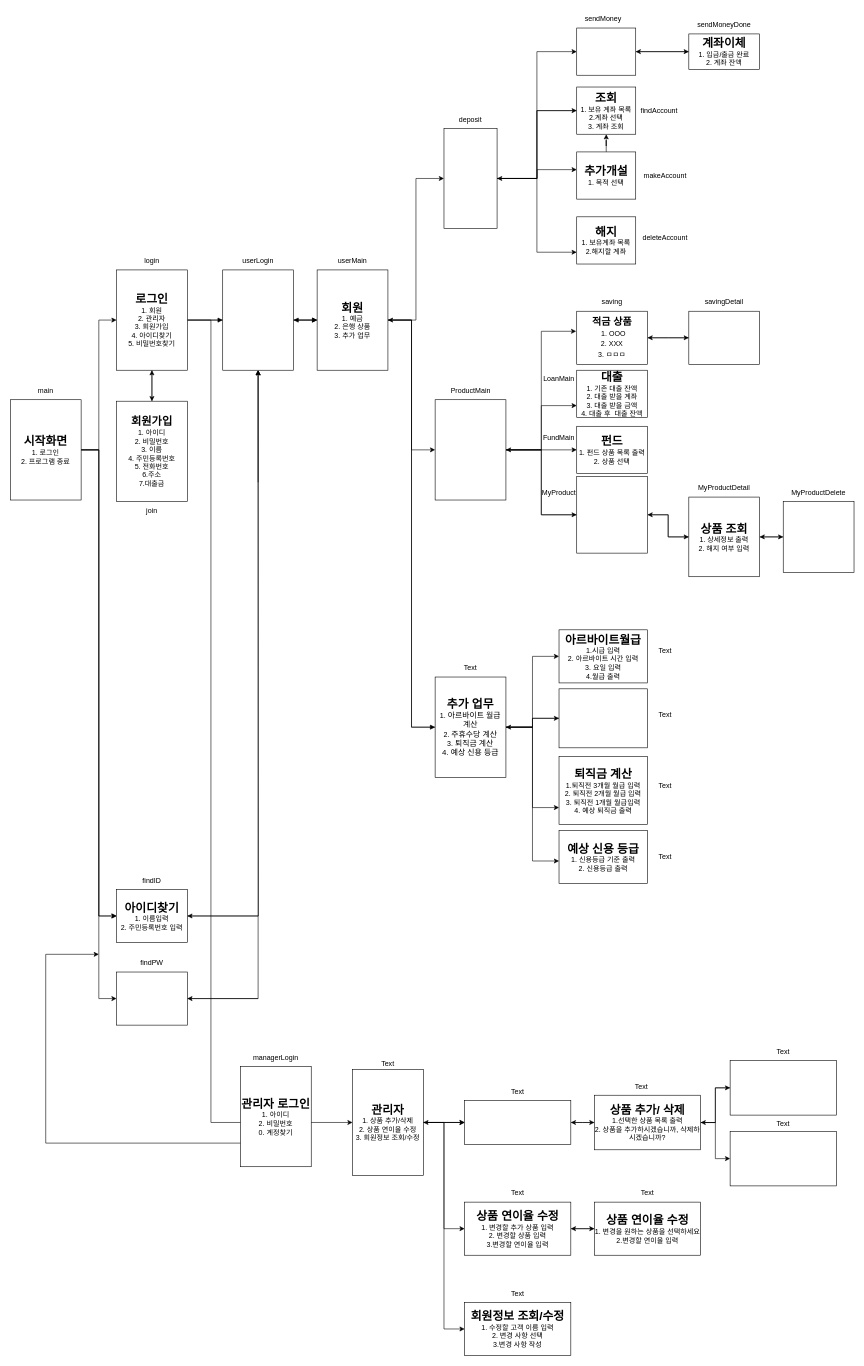
Image size: 864x1366. Some labels were removed from this diagram. Each missing label, with the box of its shape:
계좌이체 1. 입금할 계좌 2.출금할 계좌 3. 입금액/출금액: (576, 27, 636, 75)
나의 가입상품 1. 가입된 상품 목록 출력 2. 조회할 상품 입력: (576, 476, 648, 553)
비밀번호찾기 1. 아이디 입력 2. 주민등록번호 입력: (116, 971, 187, 1025)
상품 삭제 1.삭제할 상품 번호 입력: (730, 1131, 836, 1186)
상품 정보 1. 상세정보 2. 가입유무 선택: (688, 311, 760, 364)
상품 추가 1. 상품명 입력 2. 상품 이율입력 3. 상품 가입 개월 수 입력: (730, 1060, 836, 1115)
상품 추가/ 삭제 관리하려는 상품 선택: (464, 1100, 571, 1145)
예금 1. 계좌이체 2. 조회 3. 개설 4. 해지: (443, 128, 497, 229)
은행 상품 1. 적금 2. 대출 3. 펀드 4. 나의 가입상품: (435, 399, 506, 500)
주휴수당 계산 1. 근무 시간 입력 2. 시급 입력 3. 주휴수당 출력: (558, 688, 648, 748)
해지 1. 해지시 환급될 계좌 및 금액 2. 해지 여부 입력: (783, 501, 854, 572)
회원 로그인 1. 아이디 2. 비밀번호 0. 계정찾기: (222, 269, 294, 370)
